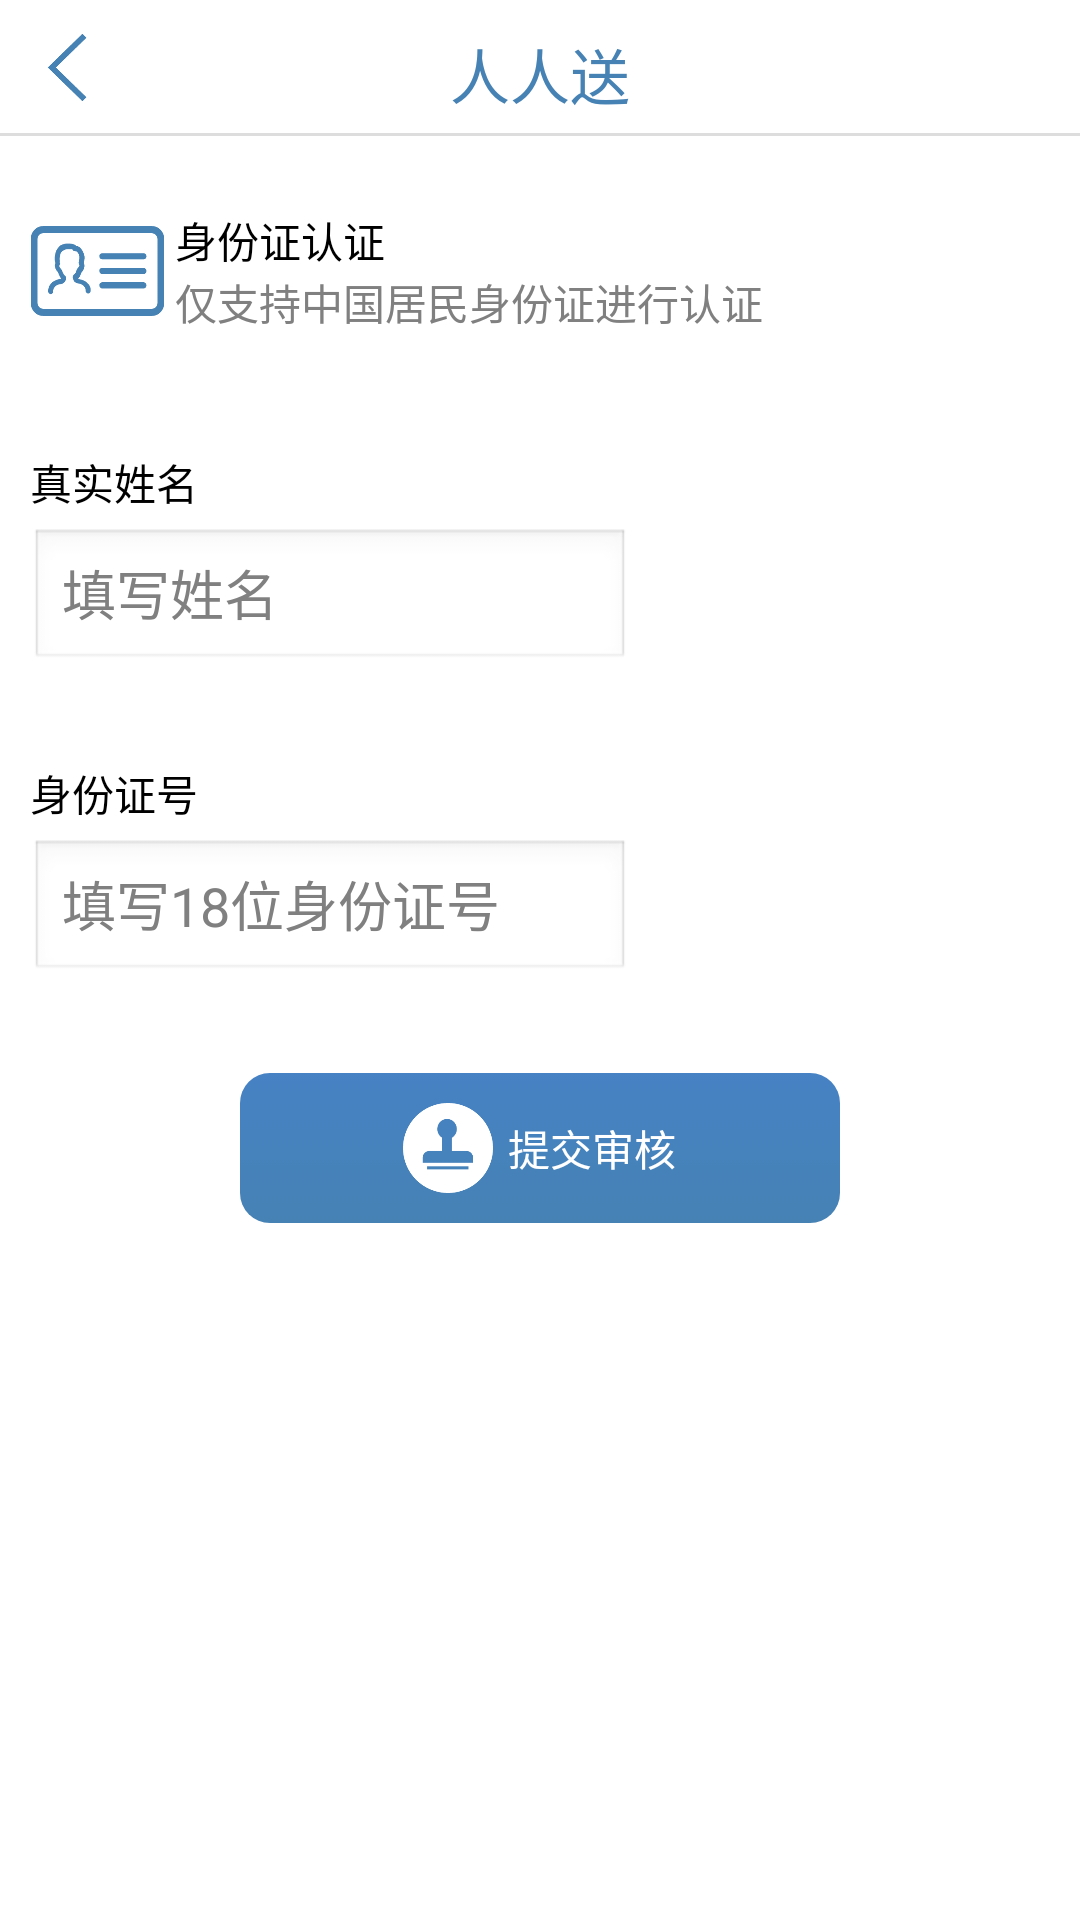

Where to tap for icons on this 1080 × 1920 app screen, as (x,y):
back: (67,67)
card: (97,271)
commit verify: (448,1148)
